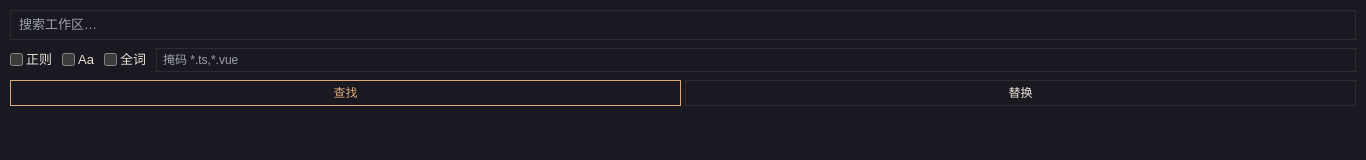
Scenario: SearchPanel 搜索模式 › 清空查询时重置 searching 状态（在途请求竞态）
The width and height of the screenshot is (1366, 160).
In the field with class "search-input": {"x": 683, "y": 25} [10,10,1356,40], type "foo"
Wait 300 ms
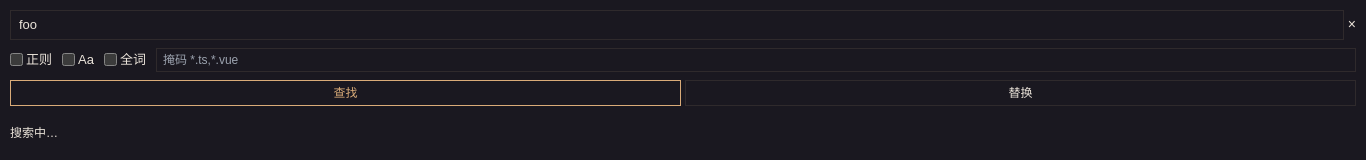
Note: 在途请求未返回时清空查询
Clear the field with class "search-input": {"x": 677, "y": 25} [10,10,1344,40]
Wait 300 ms
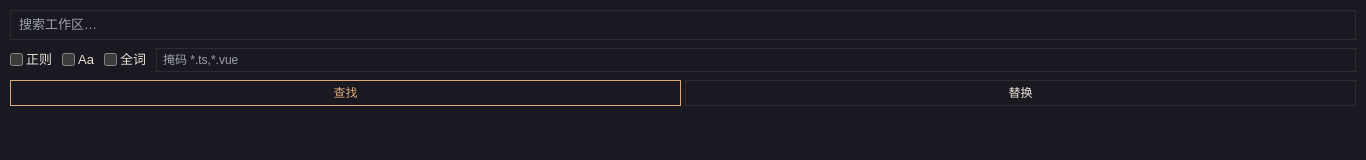
expect the text "搜索中…" is gone: met
